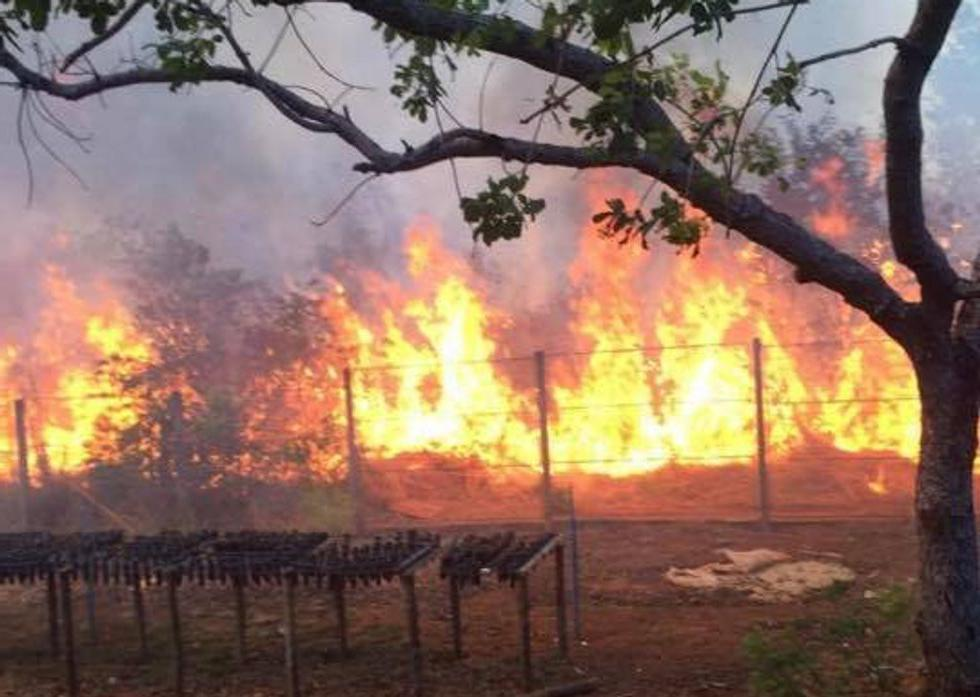Fire: (235, 188, 900, 503), (5, 260, 187, 486)
